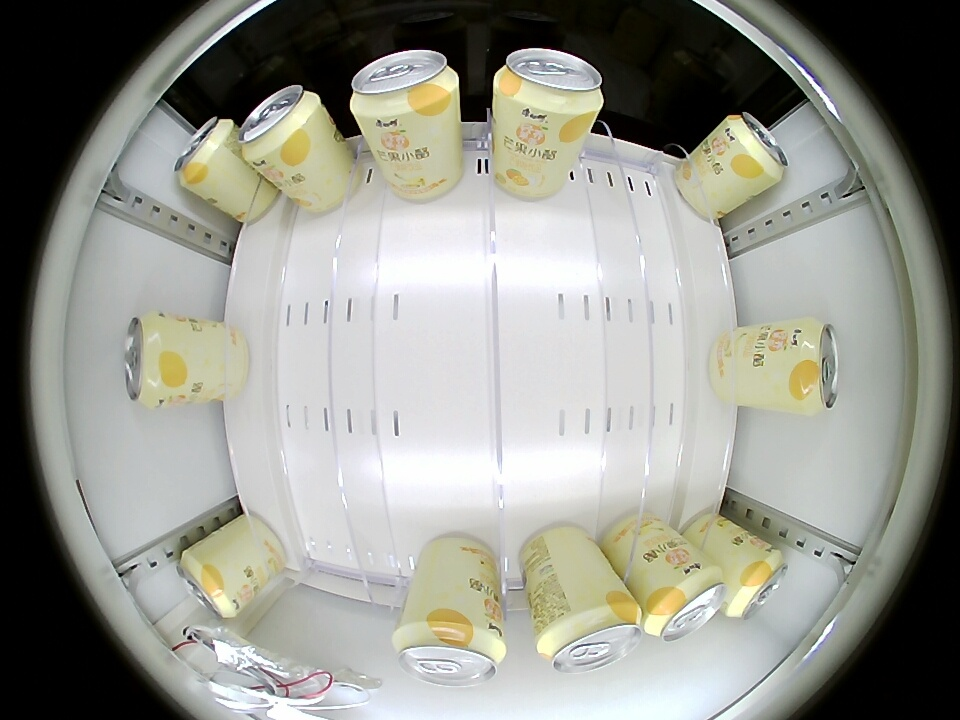mangguoxiaolao: (350, 49, 460, 126), (395, 611, 506, 687), (494, 48, 605, 123), (537, 600, 644, 674), (239, 85, 325, 166), (643, 561, 726, 643), (123, 313, 181, 408), (784, 320, 840, 414), (723, 111, 789, 187), (177, 547, 241, 620), (726, 546, 788, 620), (174, 115, 236, 189)
